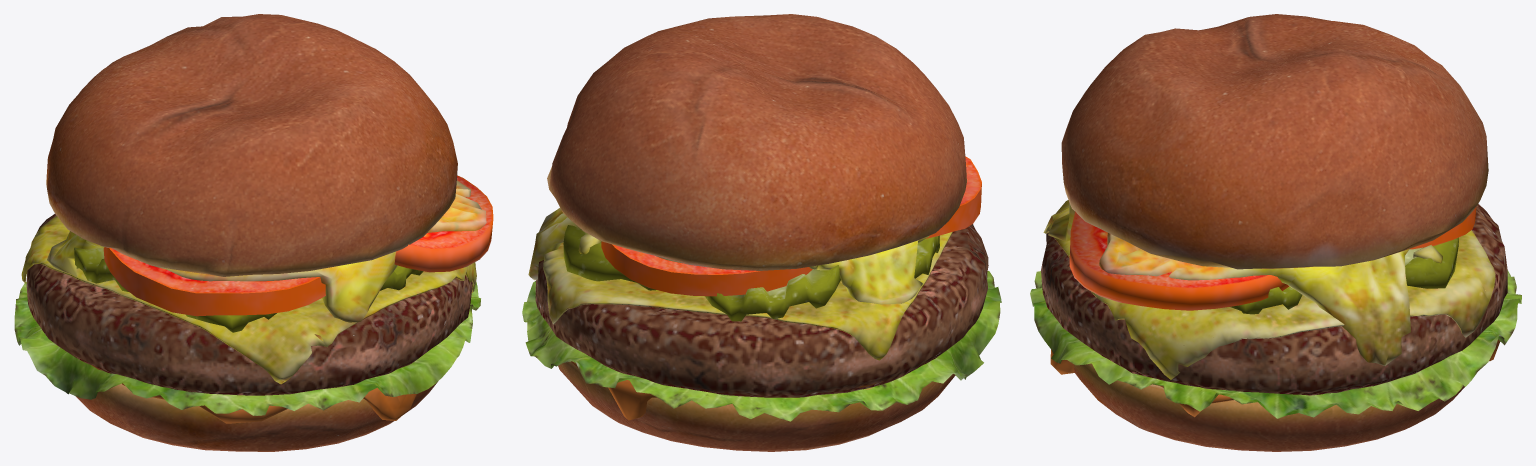
Rendered from burger (1).glb.
3 renders of one model, left to right at view 1: azimuth 30°, elevation 25°; view 2: azimuth 150°, elevation 25°; view 3: azimuth 270°, elevation 25°, orthographic. The views are drawn at different scales.
Visible parts, largest first — view 1: BUN_TOP_LP.003; view 2: BUN_TOP_LP.003; view 3: BUN_TOP_LP.003.
Boxes of the visible parts, <box> form: BUN_TOP_LP.003: <box>14,14,493,451</box>; BUN_TOP_LP.003: <box>522,14,1001,451</box>; BUN_TOP_LP.003: <box>1030,14,1521,451</box>.
Size of the model in its own units: 0.1141 by 0.0866 by 0.1139.
1 material, 1 textured.
